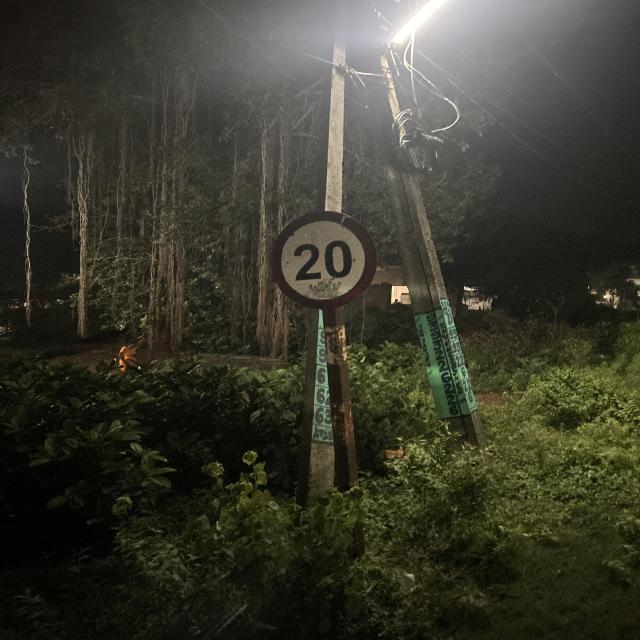speedlimit_20: (276, 215, 368, 306)
